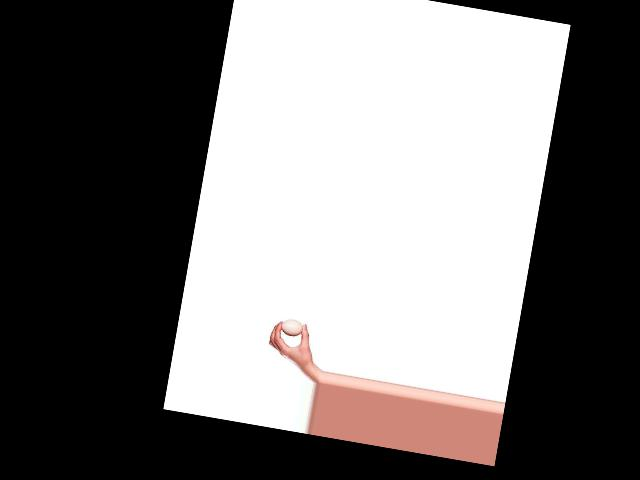egg: (280, 318, 304, 338)
